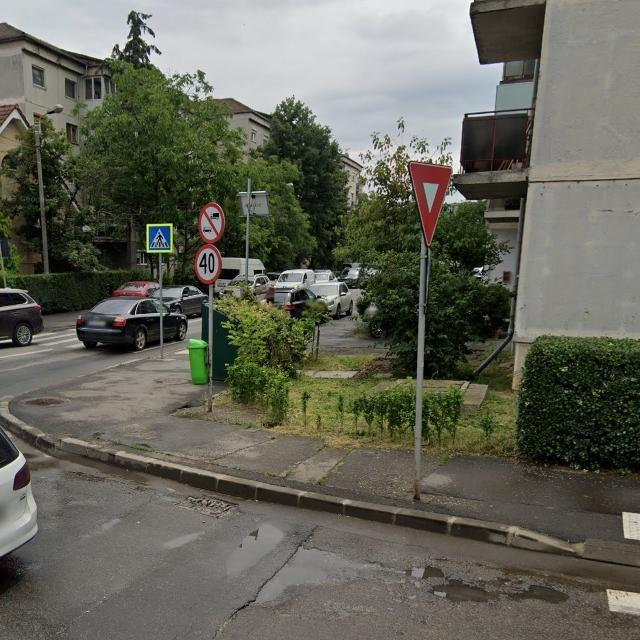forb_speed_over_40: (193, 244, 222, 285)
info_crosswalk: (145, 223, 174, 253)
prio_give_way: (406, 162, 454, 248)
